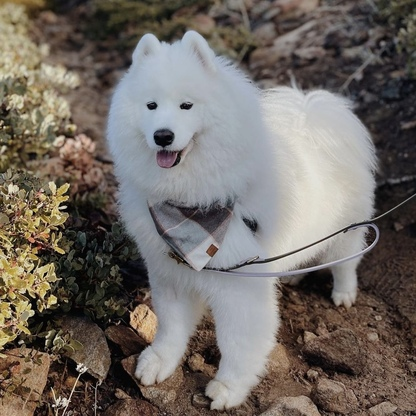samoyed: (100, 24, 384, 414)
